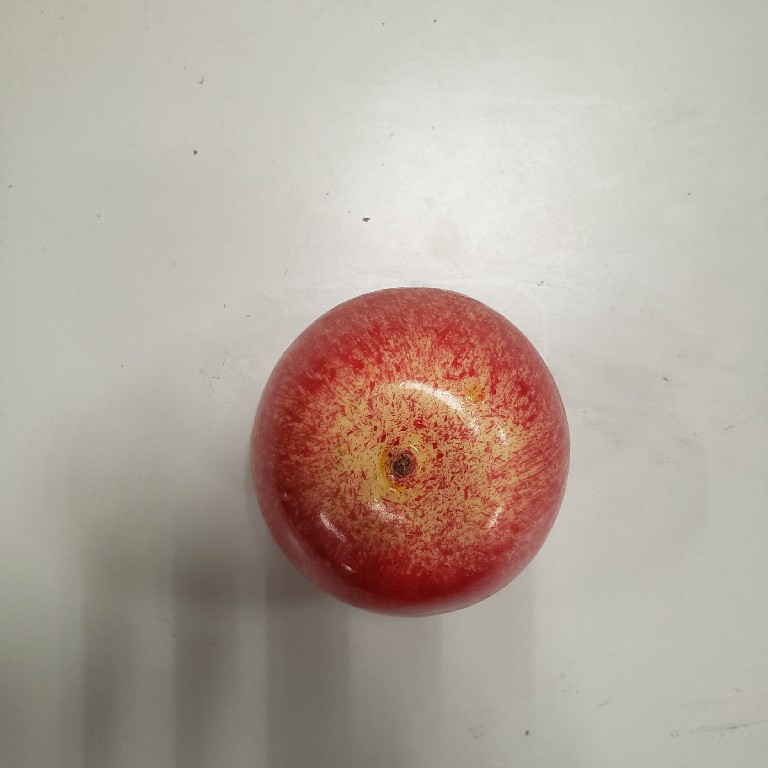fruit_apple: (242, 283, 577, 626)
